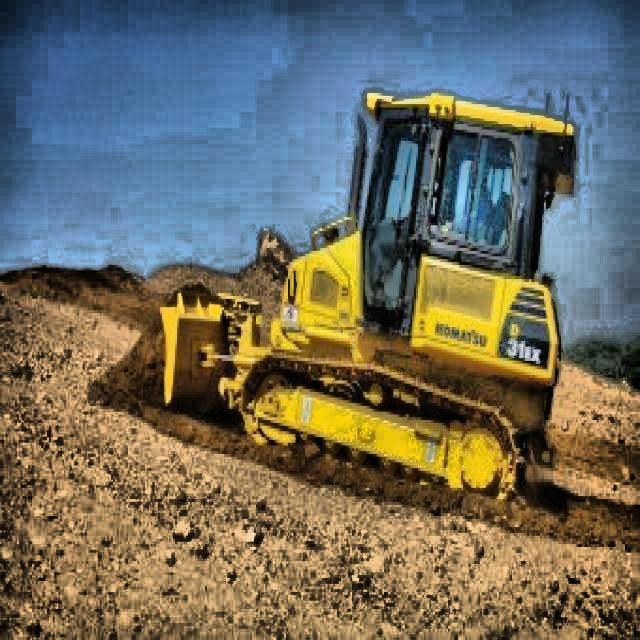bull_dozer/loader/grader: (152, 82, 580, 528)
person: (446, 156, 504, 248)
